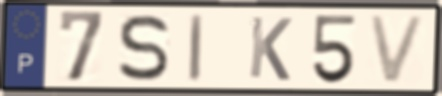5: (311, 13, 359, 86)
7: (57, 9, 106, 85)
I: (187, 12, 206, 85)
K: (246, 14, 295, 83)
S: (116, 12, 173, 83)
V: (365, 13, 430, 87)
